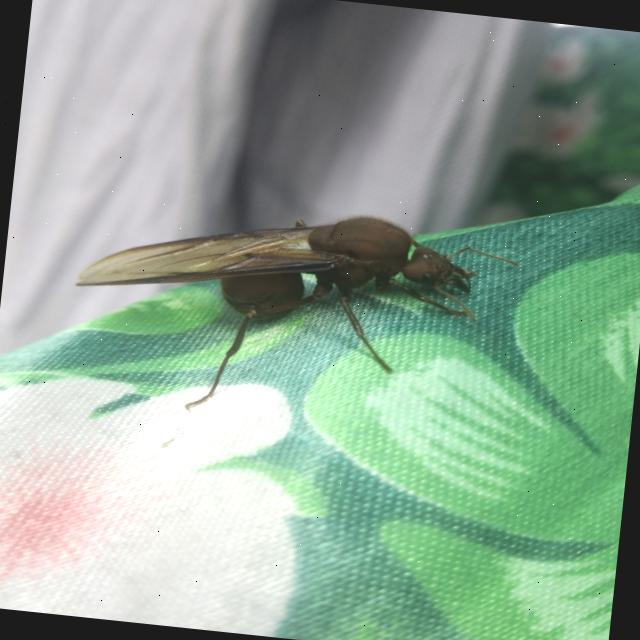Alive-Female-Alate: (62, 183, 524, 444)
